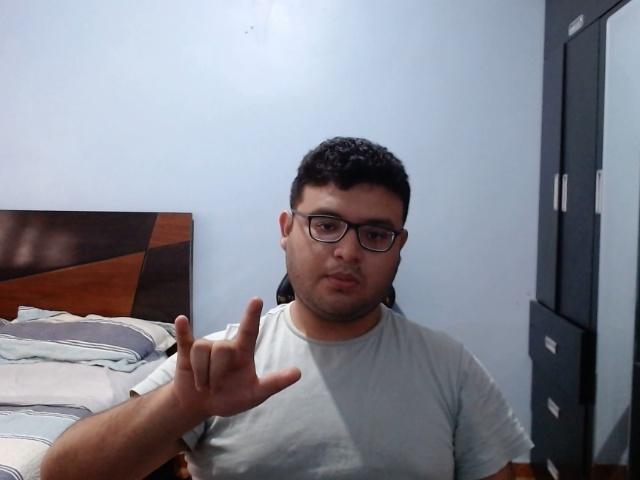I love you: (168, 295, 308, 424)
